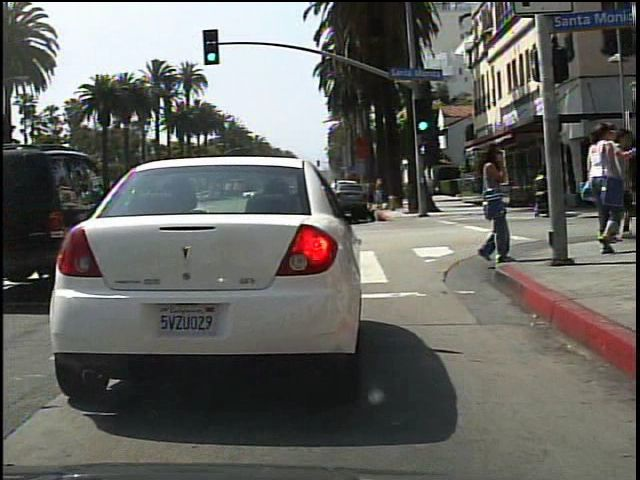person: (464, 140, 524, 269), (582, 121, 633, 257)
